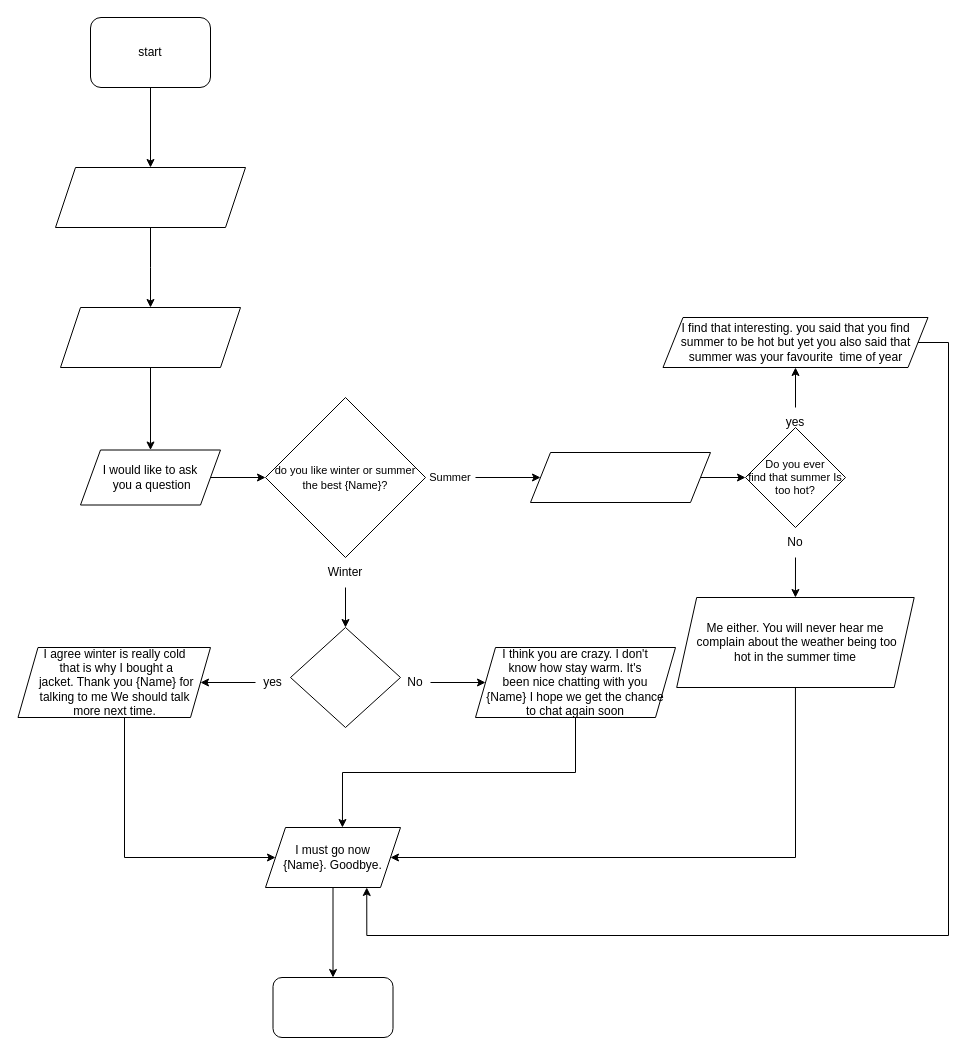
Image size: 974x1055. Some labels were removed from this diagram. Here are the shapes that lost their labels. From the top down, the box of each, then its label:
(54, 166, 246, 228): Hello. My name is Com Puter. What is your name?
(60, 306, 240, 368): It is good to meet you, {Name}
(530, 452, 710, 502): I like summer the best as well
(290, 626, 400, 728): Don't you find winter too cold?
(272, 976, 393, 1038): End
